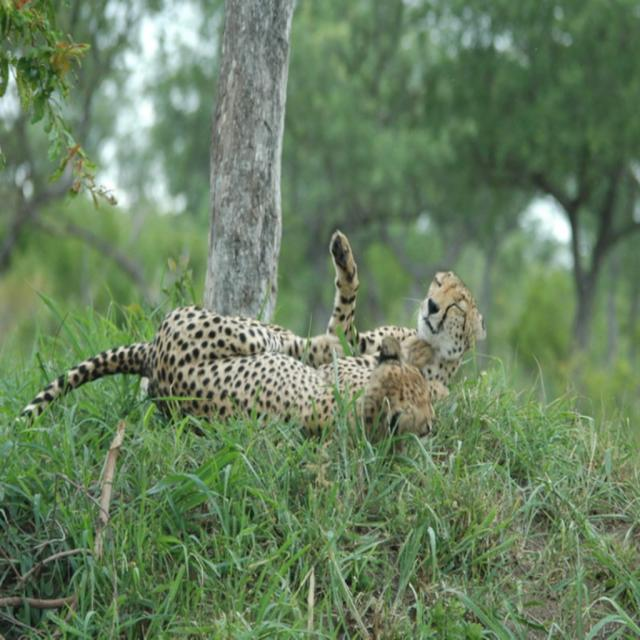Cheetah: (21, 231, 495, 444)
